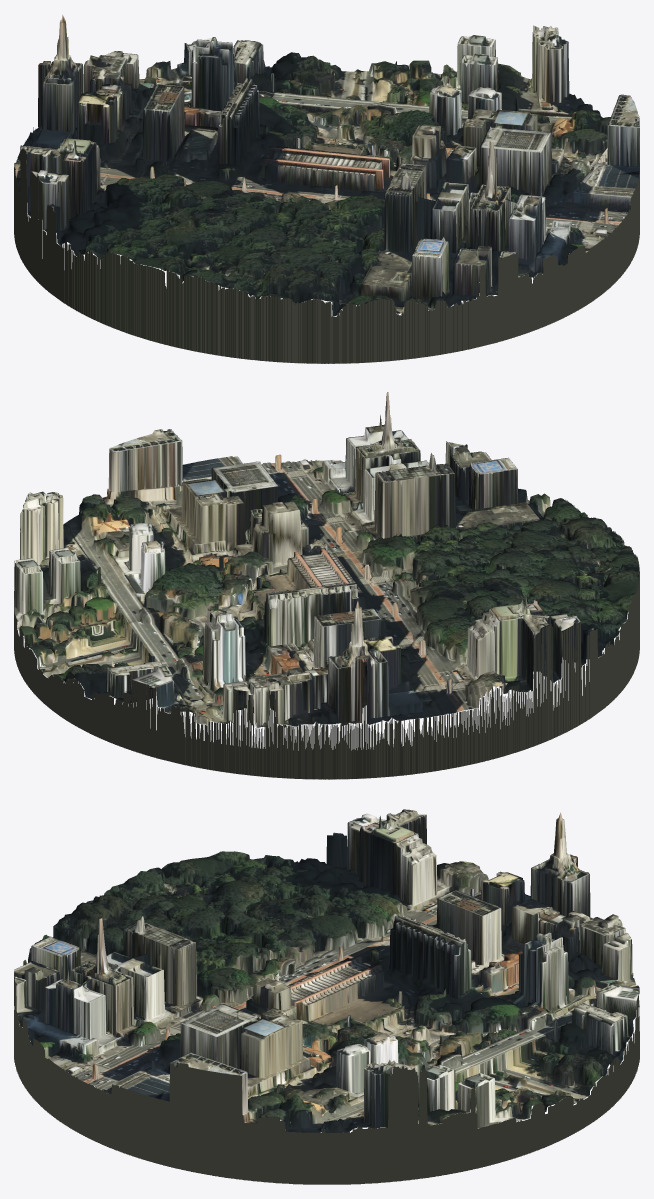
Rendered from masp-transformed.glb.
3 renders of one model, top to bottom at view 1: azimuth 30°, elevation 25°; view 2: azimuth 150°, elevation 25°; view 3: azimuth 270°, elevation 25°, orthographic.
Visible parts, largest first — view 1: Node; view 2: Node; view 3: Node.
Boxes of the visible parts, x1,y1,x2,y2 form: Node: (14,14,639,363); Node: (14,392,639,779); Node: (14,809,639,1184).
Bounding box in the file's own units: 1332 × 396 × 1332.
Materials: 1 (1 with a texture image).
